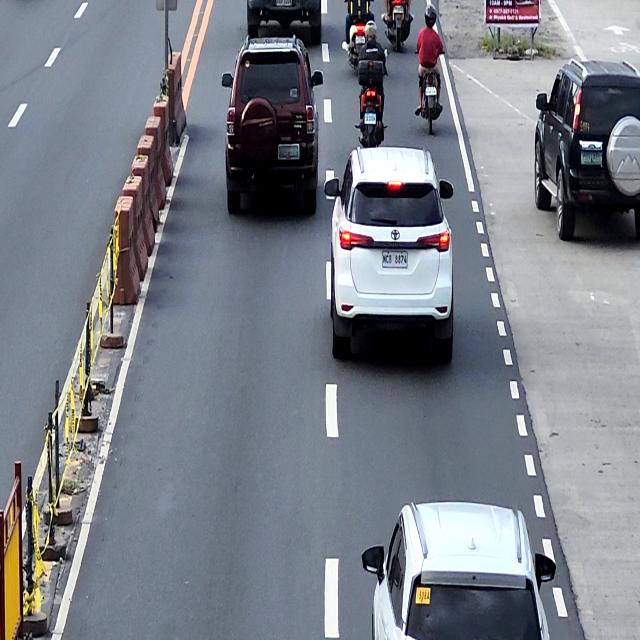Car: (323, 145, 456, 369), (362, 499, 558, 640), (533, 59, 640, 242), (223, 35, 324, 214), (246, 0, 322, 49)
License-Plate: (381, 251, 408, 268), (580, 150, 602, 166), (278, 145, 300, 160), (364, 113, 376, 124), (425, 87, 437, 96), (354, 36, 366, 44), (276, 0, 292, 6), (393, 6, 403, 14)
Motorcycle: (356, 48, 388, 148), (414, 44, 445, 136), (345, 0, 371, 62), (384, 0, 411, 49)
